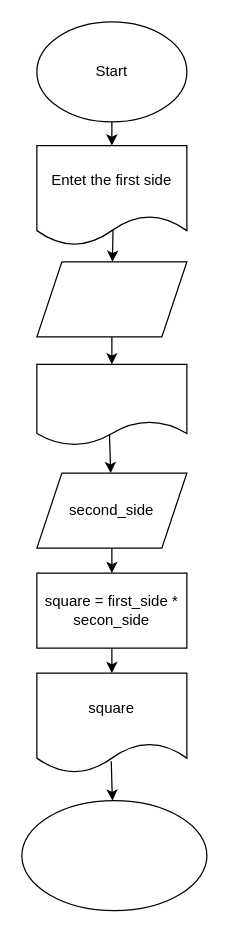
Image size: 229x933. Some labels were removed from this diagram. Each missing label, with the centre of its shape:
"End" goes at point 114,855.
"Entet the secong side" goes at point 111,404.
"first_side" goes at point 111,299.
